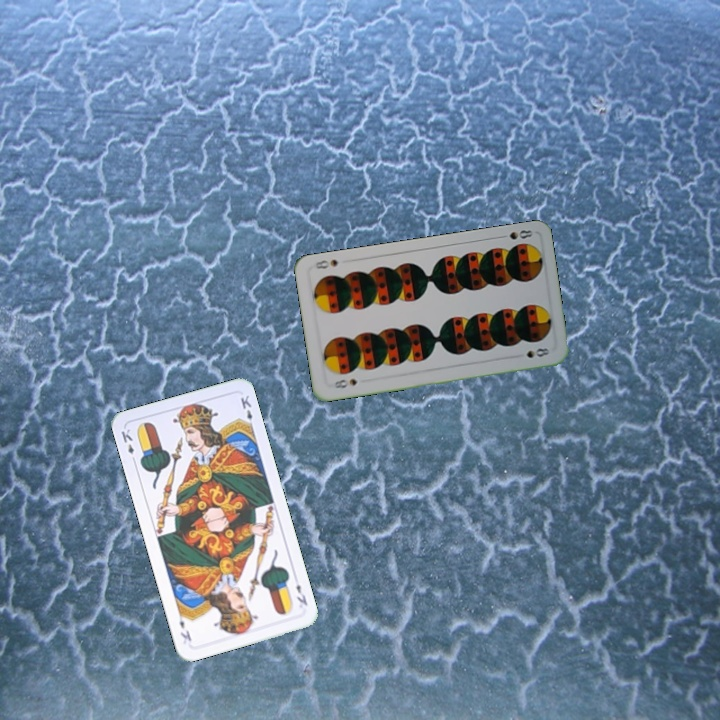EK: (117, 425, 139, 465), (292, 580, 310, 608)
S8: (495, 226, 535, 242), (327, 374, 359, 391)
